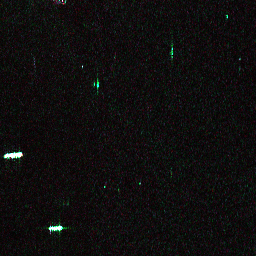ship: (1, 149, 24, 160), (47, 224, 64, 232)
